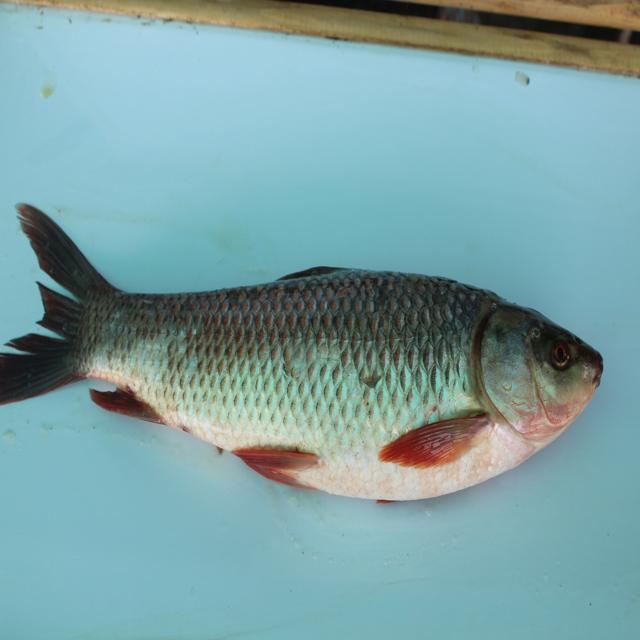Rohu: (2, 179, 612, 516)
